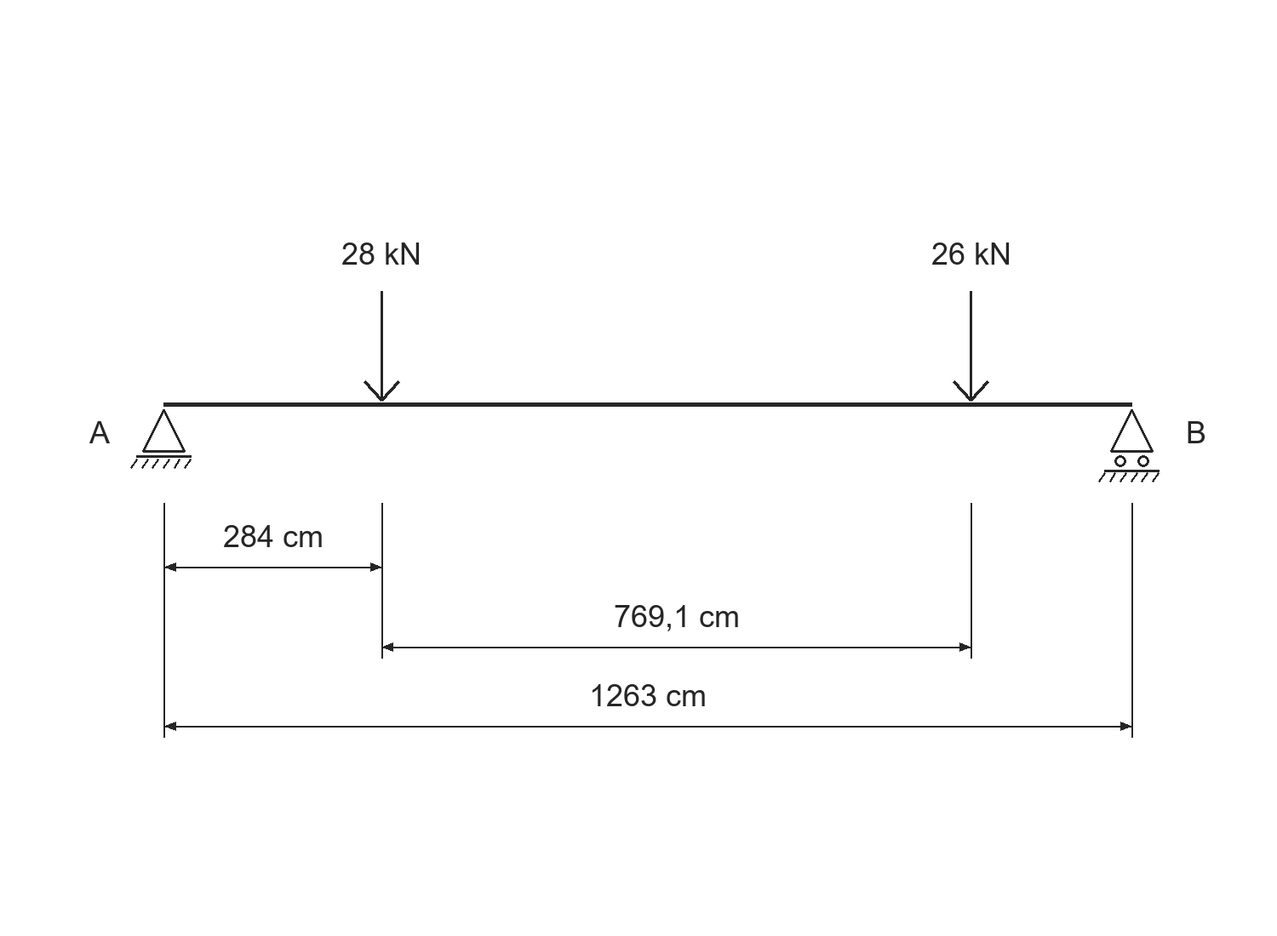pin_support: (130, 409, 192, 469)
point_load: (364, 291, 400, 402), (953, 291, 989, 402)
roller_support: (1098, 409, 1160, 482)
